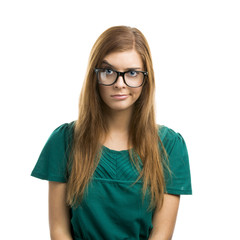teen: (83, 34, 162, 124)
